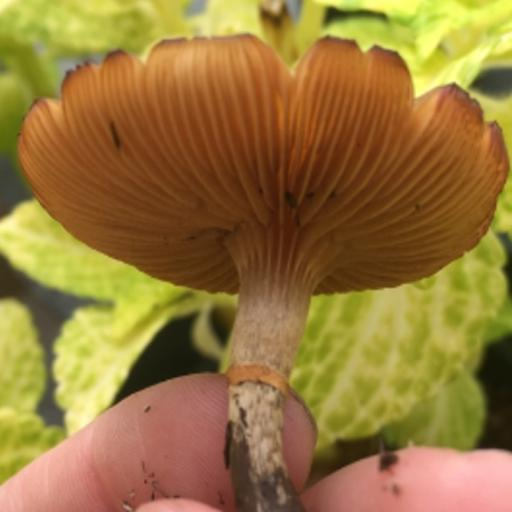mushroom: (12, 31, 512, 383)
